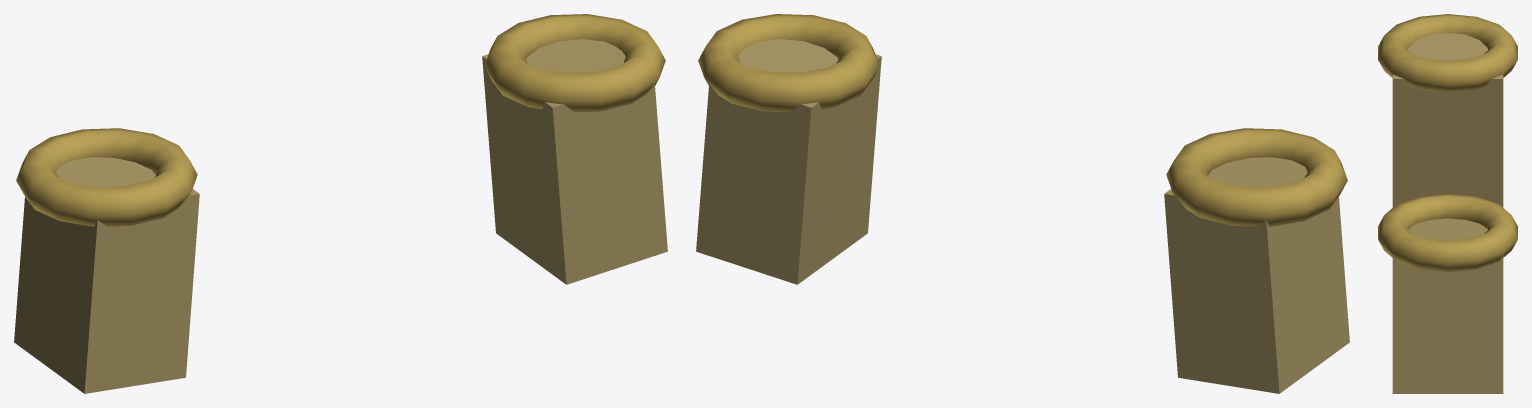
Rendered from hands.glb.
3 renders of one model, left to right at view 1: azimuth 30°, elevation 25°; view 2: azimuth 150°, elevation 25°; view 3: azimuth 270°, elevation 25°, orthographic. The views are drawn at different scales.
Visible parts, largest first — view 1: gauntlet_-1, gauntlet_1, cuff_-1, cuff_1; view 2: gauntlet_-1, gauntlet_1, cuff_-1, cuff_1; view 3: gauntlet_1, gauntlet_-1, cuff_1, cuff_-1.
Part boxes in pixels (left/top/right/bottom): gauntlet_-1: left=14, top=157, right=199, bottom=393; gauntlet_1: left=482, top=39, right=667, bottom=284; cuff_-1: left=16, top=128, right=197, bottom=226; cuff_1: left=484, top=14, right=665, bottom=112; gauntlet_-1: left=1164, top=157, right=1349, bottom=393; gauntlet_1: left=696, top=39, right=881, bottom=284; cuff_-1: left=1166, top=128, right=1347, bottom=226; cuff_1: left=698, top=14, right=879, bottom=112; gauntlet_1: left=1392, top=218, right=1503, bottom=393; gauntlet_-1: left=1392, top=33, right=1503, bottom=207; cuff_1: left=1378, top=193, right=1517, bottom=271; cuff_-1: left=1378, top=14, right=1517, bottom=92.
Size of the model in its own units: 1.23 by 0.3816 by 0.3022.
